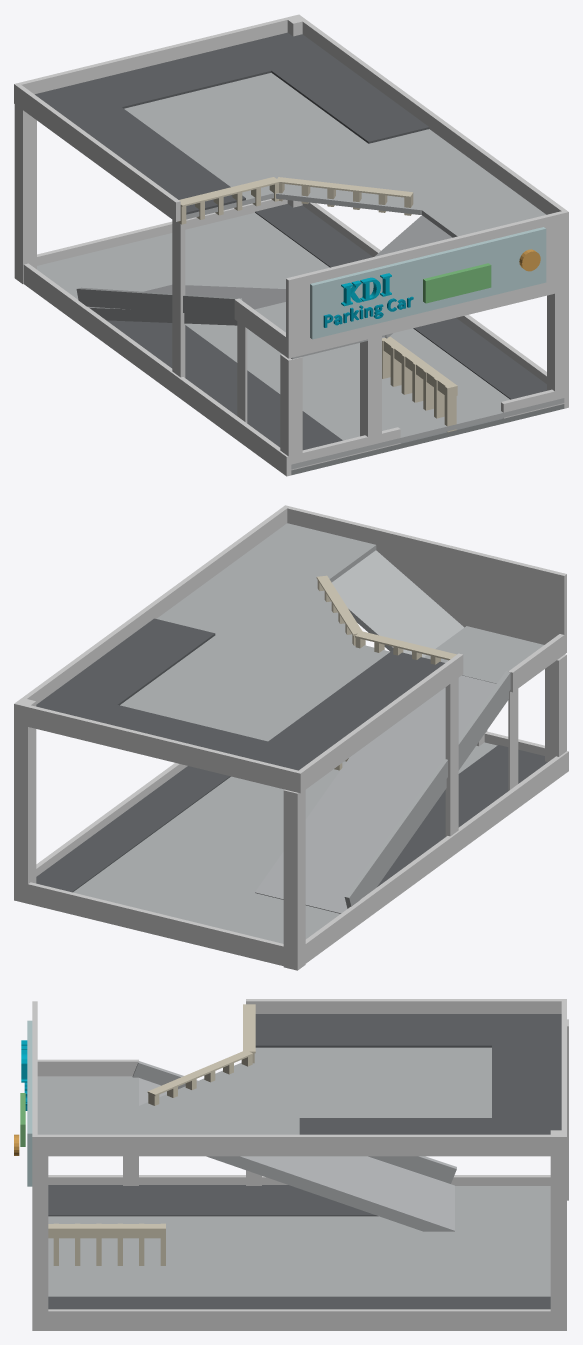
Rendered from estacionamente.glb.
The picture shows the model from 3 angles, top to bottom: view 1: azimuth 30°, elevation 25°; view 2: azimuth 150°, elevation 25°; view 3: azimuth 270°, elevation 25°; orthographic projection.
Visible parts, largest first — view 1: Mesh_Mesh_head_geo.001_lambert2SG.001; view 2: Mesh_Mesh_head_geo.001_lambert2SG.001; view 3: Mesh_Mesh_head_geo.001_lambert2SG.001.
Boxes of the visible parts, <box> form: Mesh_Mesh_head_geo.001_lambert2SG.001: <box>14,14,568,476</box>; Mesh_Mesh_head_geo.001_lambert2SG.001: <box>14,505,568,970</box>; Mesh_Mesh_head_geo.001_lambert2SG.001: <box>14,999,568,1330</box>.
Bounding box in the file's own units: 305 × 200 × 519.
